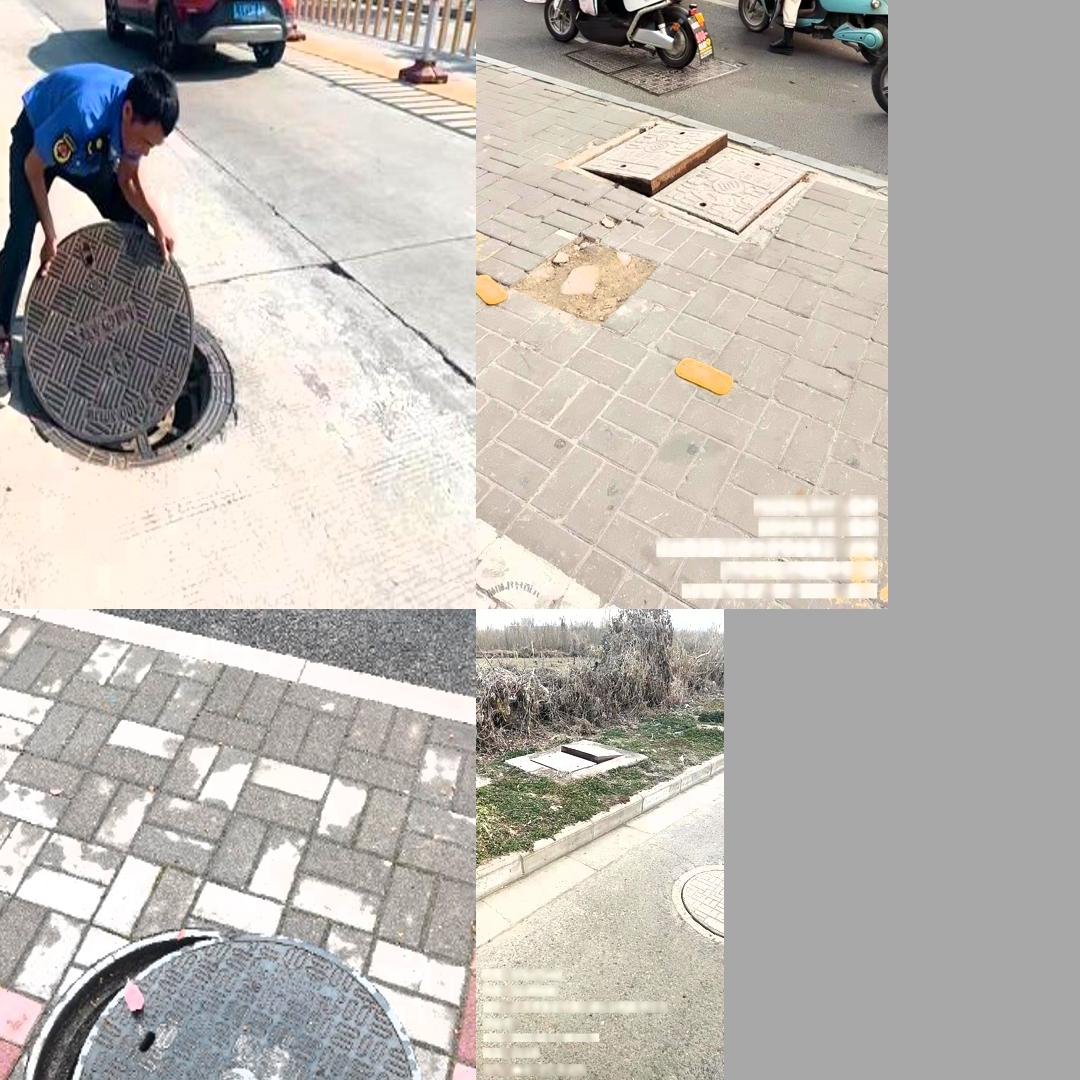good: (672, 865, 724, 947)
uncovered: (17, 929, 424, 1080), (12, 213, 242, 473), (559, 108, 778, 201), (528, 738, 620, 775)
